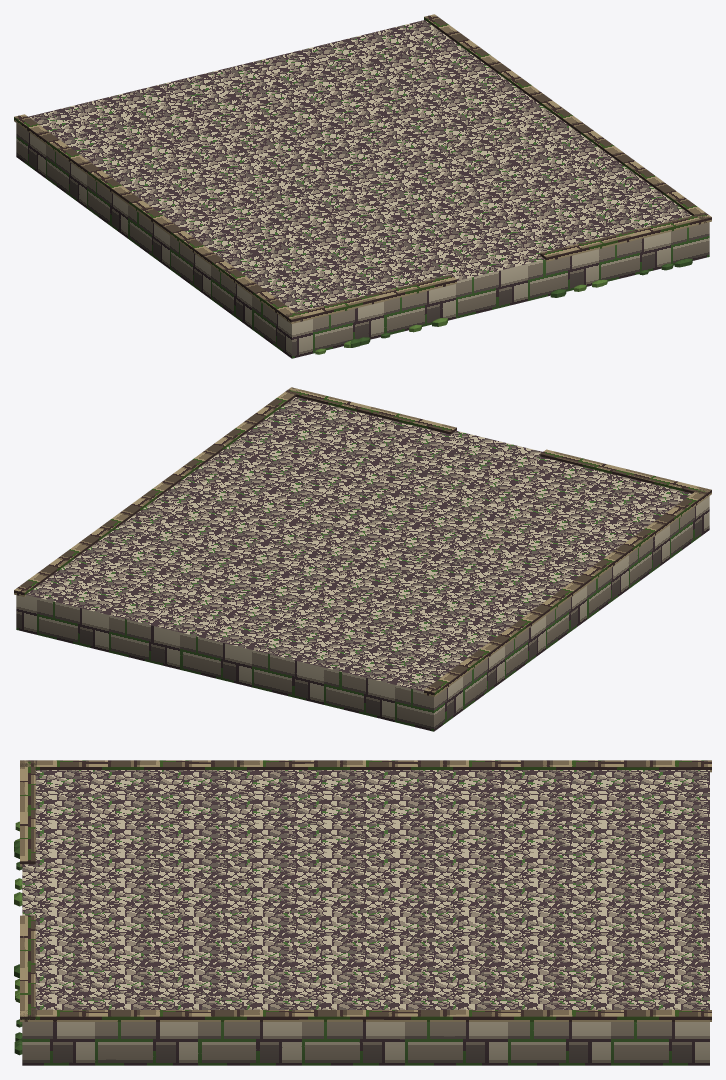
The picture shows the model from 3 angles, top to bottom: view 1: azimuth 30°, elevation 25°; view 2: azimuth 150°, elevation 25°; view 3: azimuth 270°, elevation 25°; orthographic projection. The views are drawn at different scales.
Visible parts, largest first — view 1: scene_c1; view 2: scene_c1; view 3: scene_c1.
Boxes of the visible parts, box(x1,y1,x2,y2) form: scene_c1: box(14, 14, 711, 358); scene_c1: box(14, 387, 711, 731); scene_c1: box(14, 760, 711, 1065).
Bounding box in the file's own units: 14.1 × 1.37 × 16.24.
Materials: 3 (2 with a texture image).
